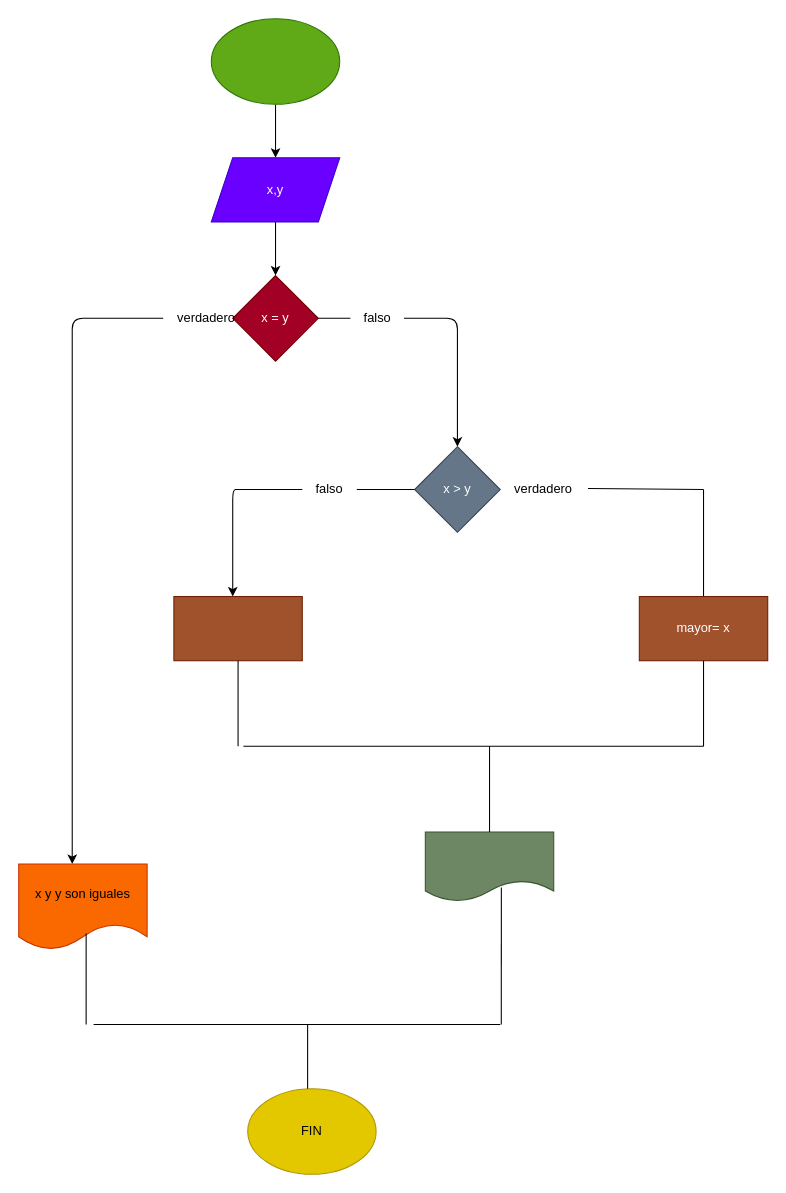
Image size: 786x1193. Some labels were removed from this diagram. Each missing label, with the centre of its shape:
INICIO: point (275, 61)
mayor: point (489, 866)
mayor= y: point (237, 628)
